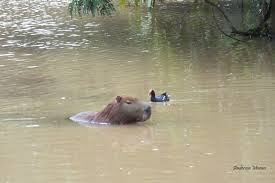capivara: (67, 96, 151, 125)
